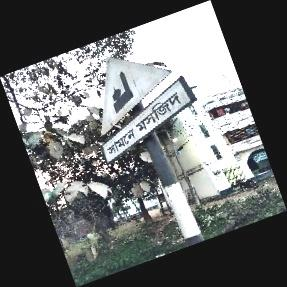Mosque in front: (101, 55, 196, 162)
